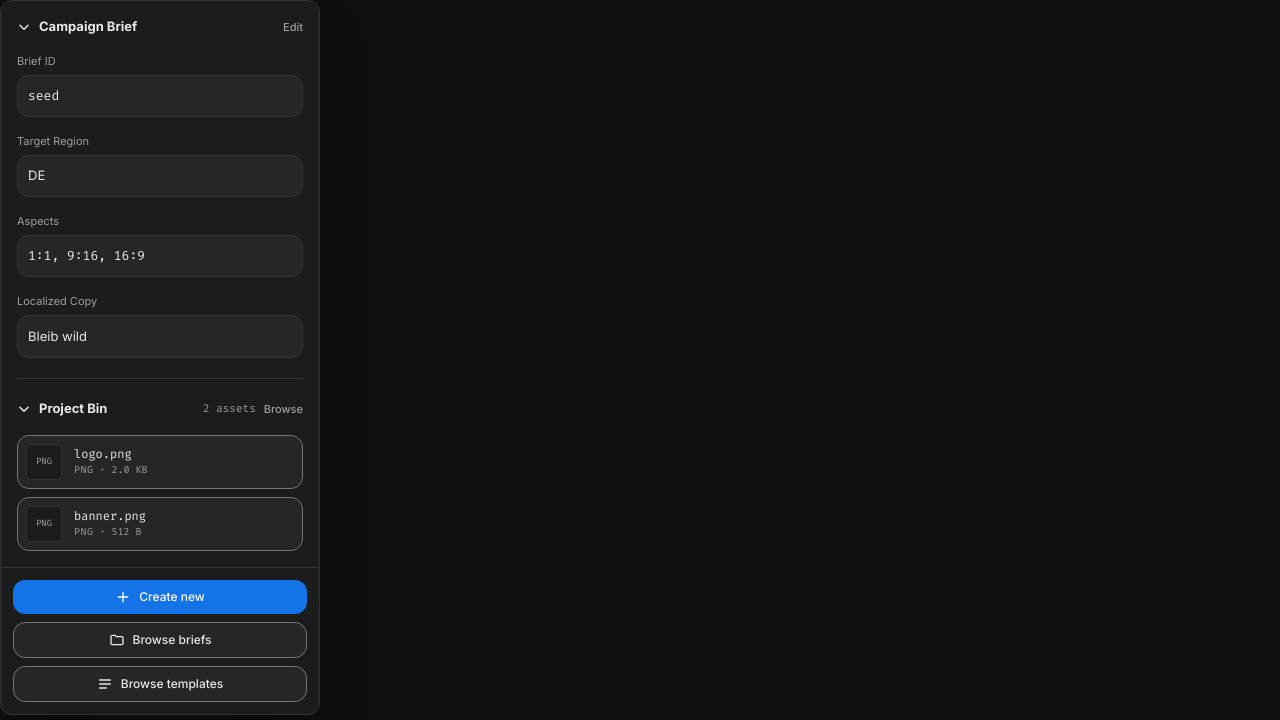
Test: Sidebar Project Bin delete › a bin row whose asset an open editor field names has no Delete and shows the in-use hint
Expected: the text "logo.png" is shown, [74,446,132,462]
Click the button "Browse": (283, 409) [264,401,303,417]
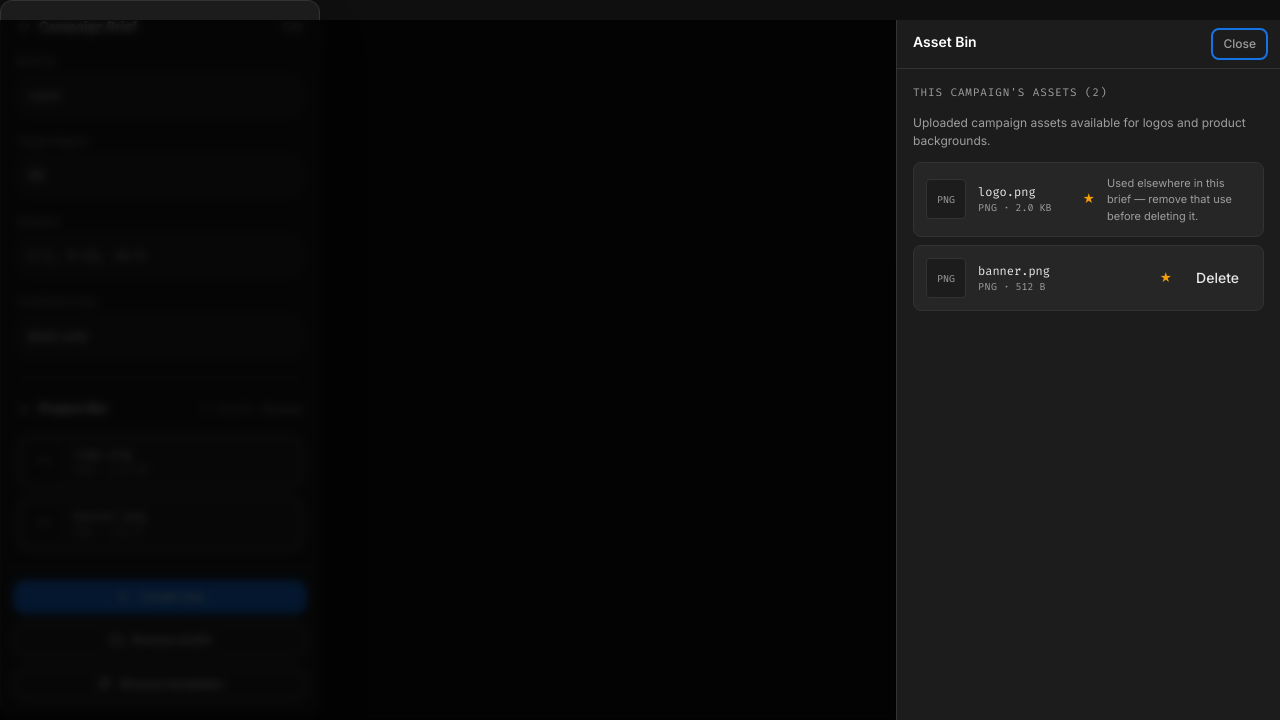
Result: the text "Used elsewhere in this brief — remove that use before deleting it." is shown once at [1107,174,1251,224]
